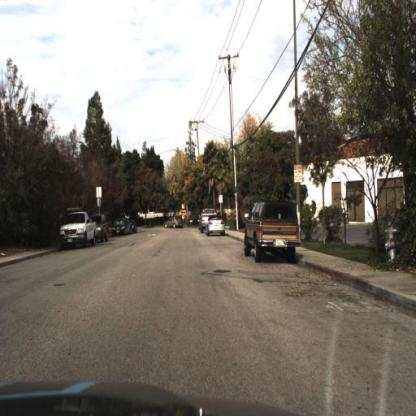car: (243, 197, 303, 270), (60, 211, 97, 251), (93, 212, 110, 246), (206, 213, 227, 240), (164, 211, 186, 231), (111, 217, 128, 241), (111, 217, 130, 238)
